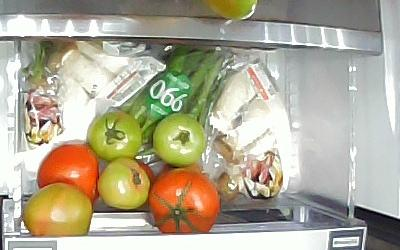tomato: (149, 168, 221, 235), (37, 142, 99, 205), (22, 183, 93, 238), (152, 113, 206, 168), (87, 111, 142, 163), (97, 158, 150, 209)
